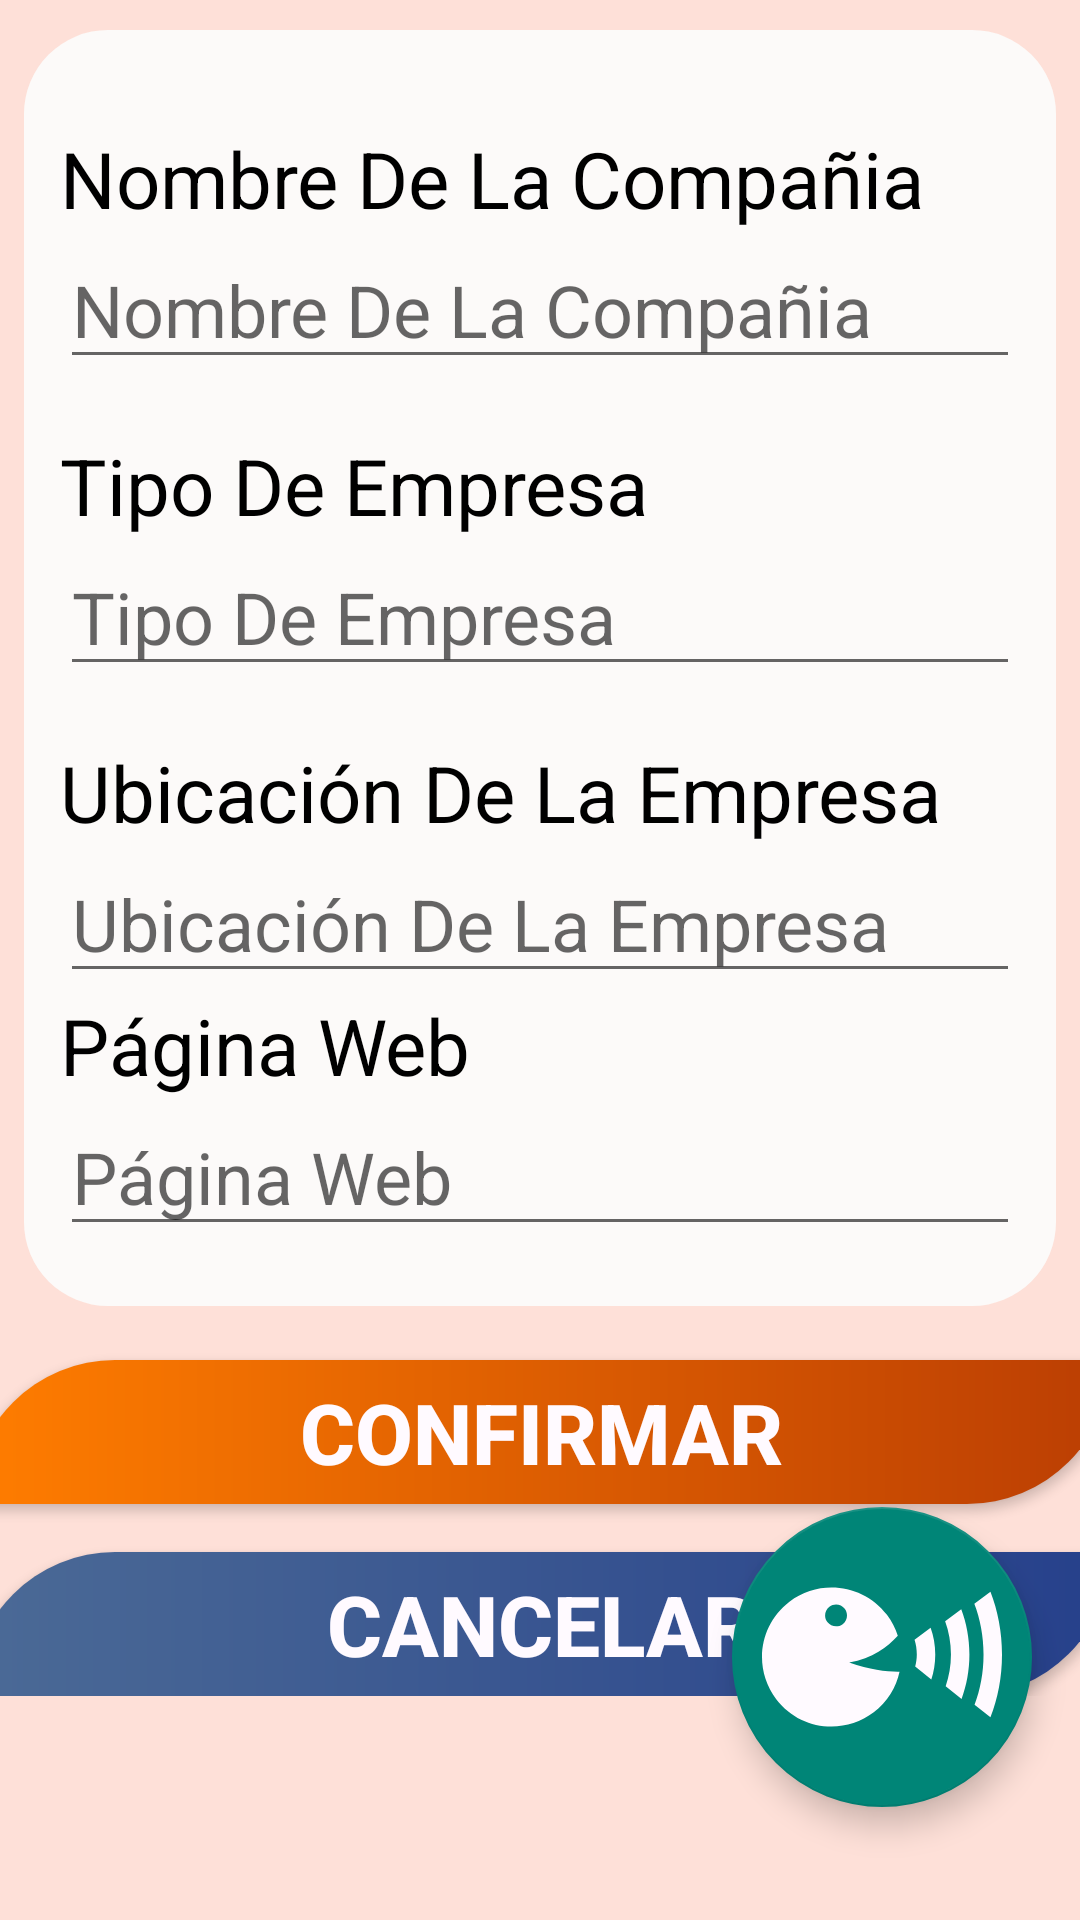

Icons on this 1080px x 1920px Android screen, each with the point to tap as (x=x, y=y):
Activar comandos de voz: (x=882, y=1657)
